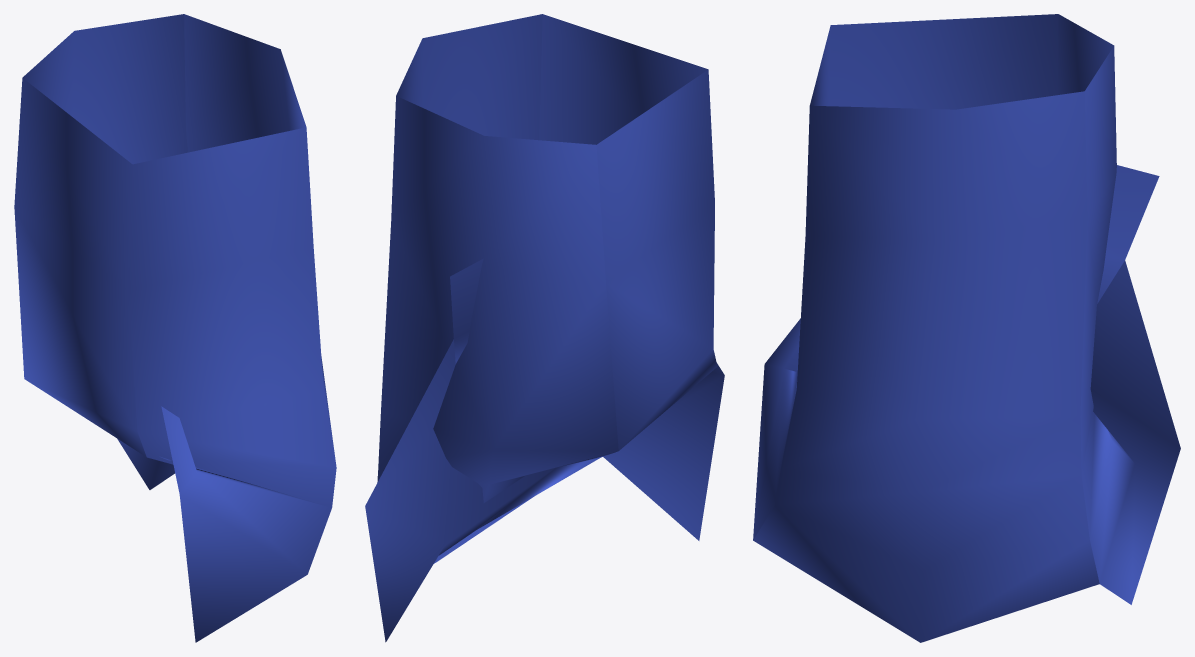
Rendered from left_arm.glb.
3 renders of one model, left to right at view 1: azimuth 30°, elevation 25°; view 2: azimuth 150°, elevation 25°; view 3: azimuth 270°, elevation 25°, orthographic. The views are drawn at different scales.
Parts seen in each view (by area): view 1: polo-blue_LEFT_ARM; view 2: polo-blue_LEFT_ARM; view 3: polo-blue_LEFT_ARM.
Boxes of the visible parts, bbox=[...] form: polo-blue_LEFT_ARM: bbox=[14, 14, 336, 642]; polo-blue_LEFT_ARM: bbox=[365, 14, 724, 642]; polo-blue_LEFT_ARM: bbox=[753, 14, 1180, 642].
Size of the model in its own units: 0.1307 by 0.252 by 0.1839.
Materials: 1 (1 with a texture image).
